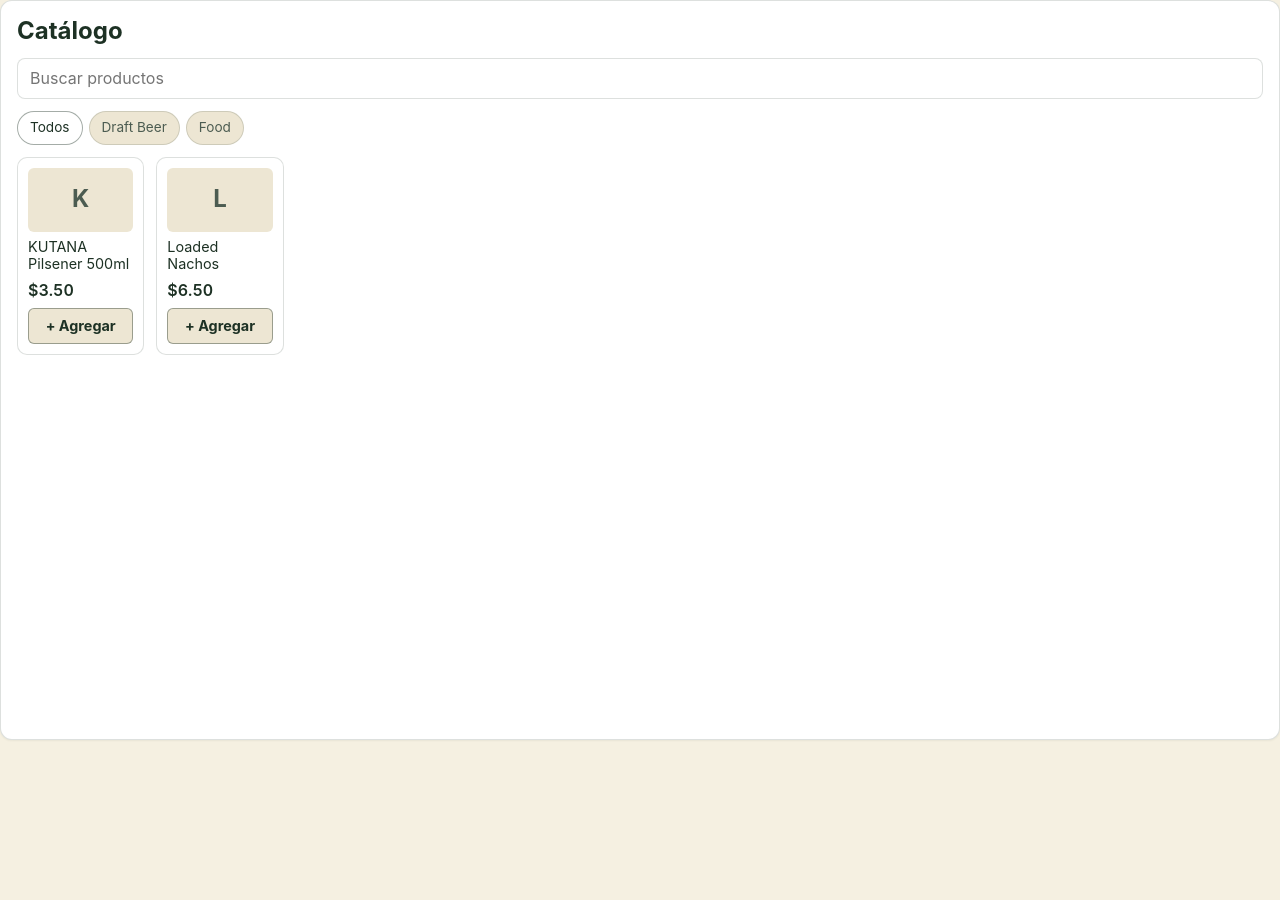
AddItemPanel › filters the grid to the selected category tab
Click the tab "Food" at (215, 128), box [186, 111, 244, 145]
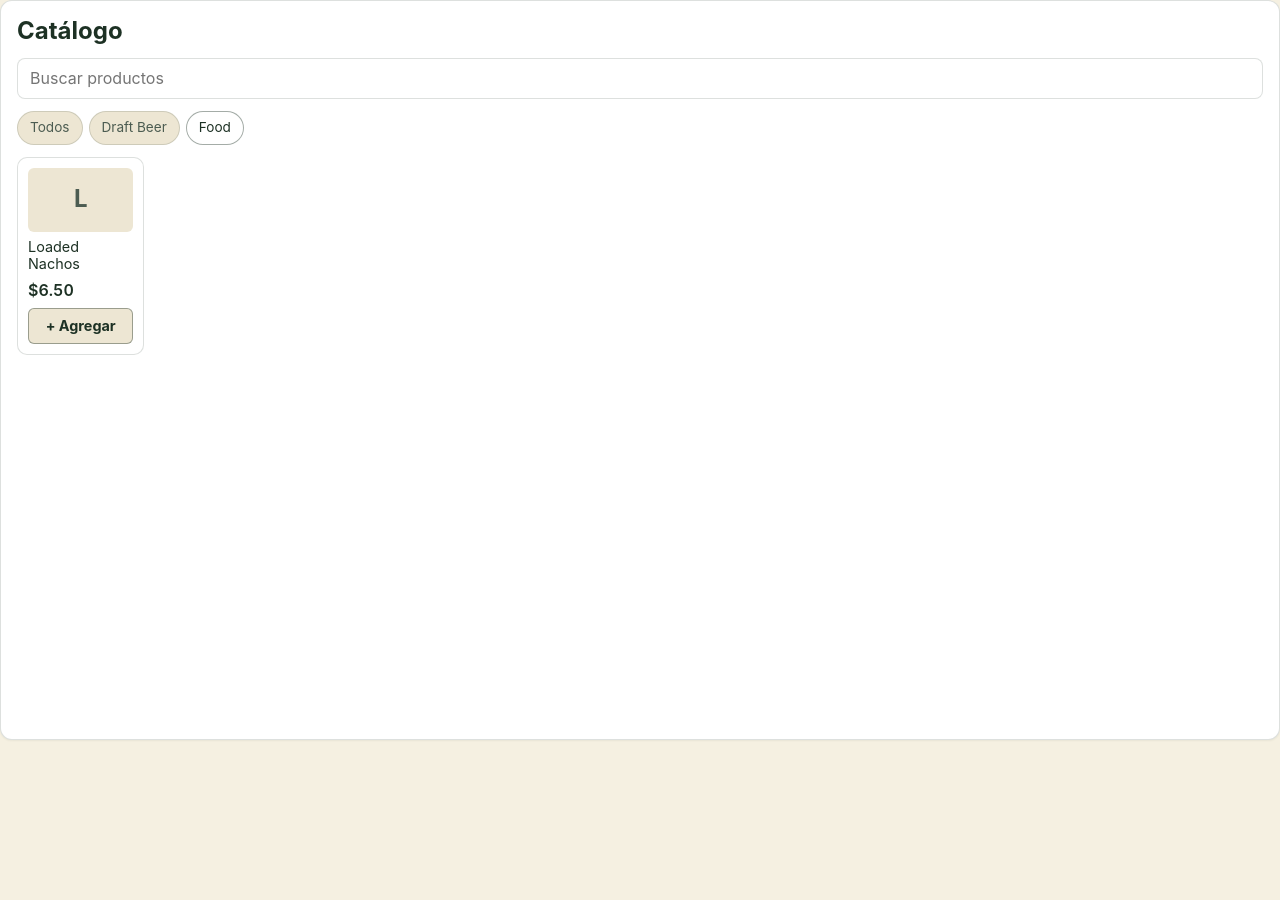
Check: the text "Loaded Nachos" is shown, box [28, 238, 80, 272]
Check: the button "KUTANA Pilsener 500ml" is gone
